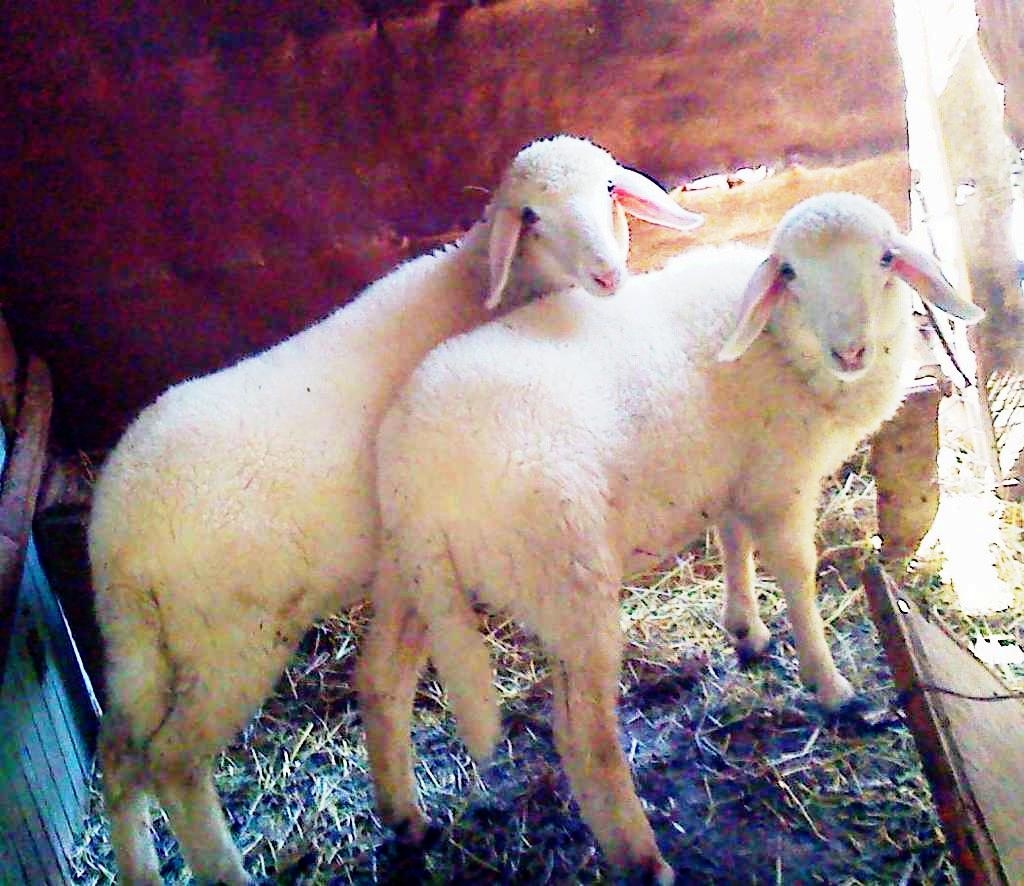Sheep: (96, 134, 702, 885), (384, 138, 984, 886)
